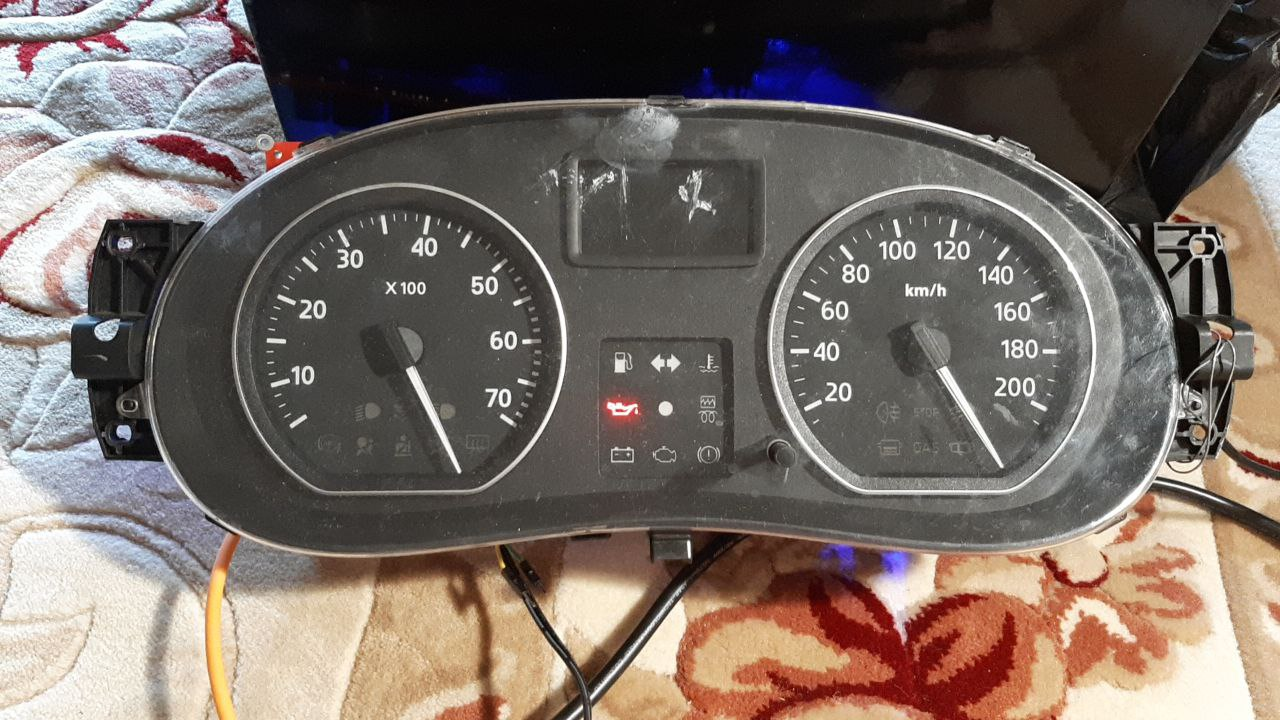oil: (597, 395, 644, 423)
